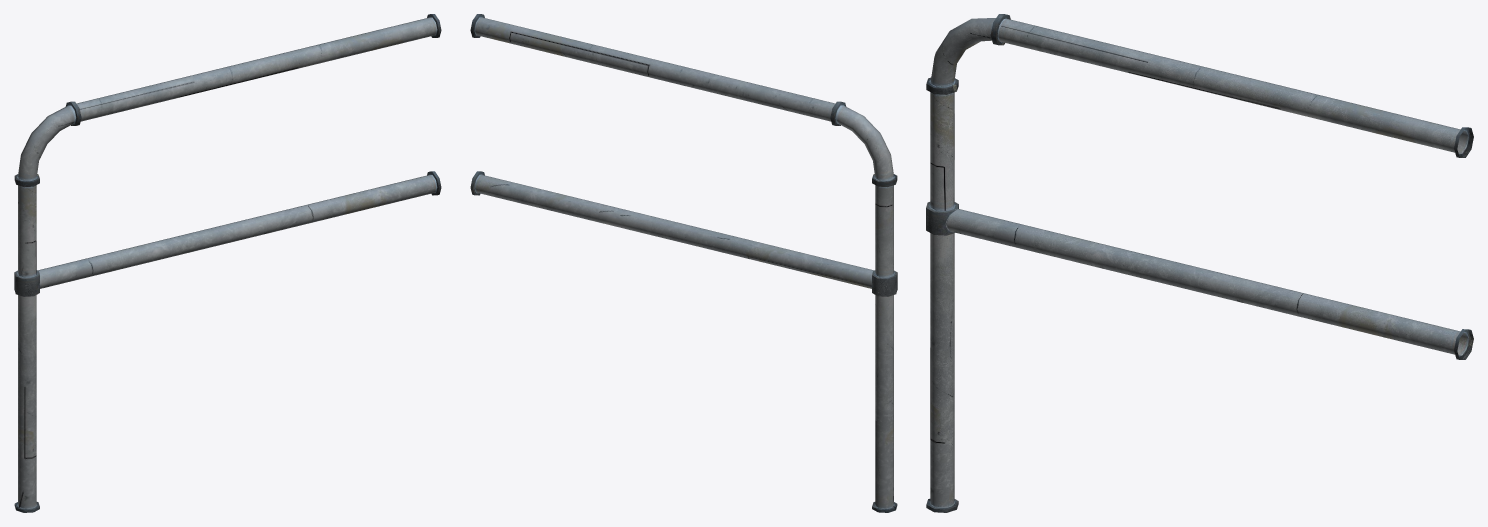
3 renders of one model, left to right at view 1: azimuth 30°, elevation 25°; view 2: azimuth 150°, elevation 25°; view 3: azimuth 330°, elevation 25°, orthographic. The views are drawn at different scales.
Visible parts, largest first — view 1: polySurface18; view 2: polySurface18; view 3: polySurface18.
Boxes of the visible parts, x1=… form: polySurface18: x1=14, y1=14, x2=441, y2=512; polySurface18: x1=470, y1=14, x2=897, y2=512; polySurface18: x1=926, y1=14, x2=1473, y2=512.
Size of the model in its own units: 2 by 1.8 by 0.1098.
Materials: 1 (1 with a texture image).
